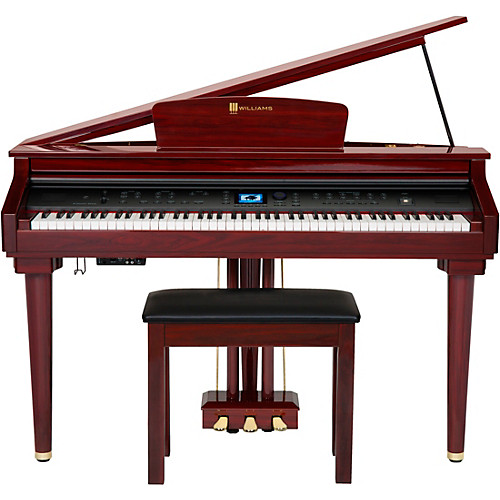GrandPiano: (3, 65, 500, 284)
